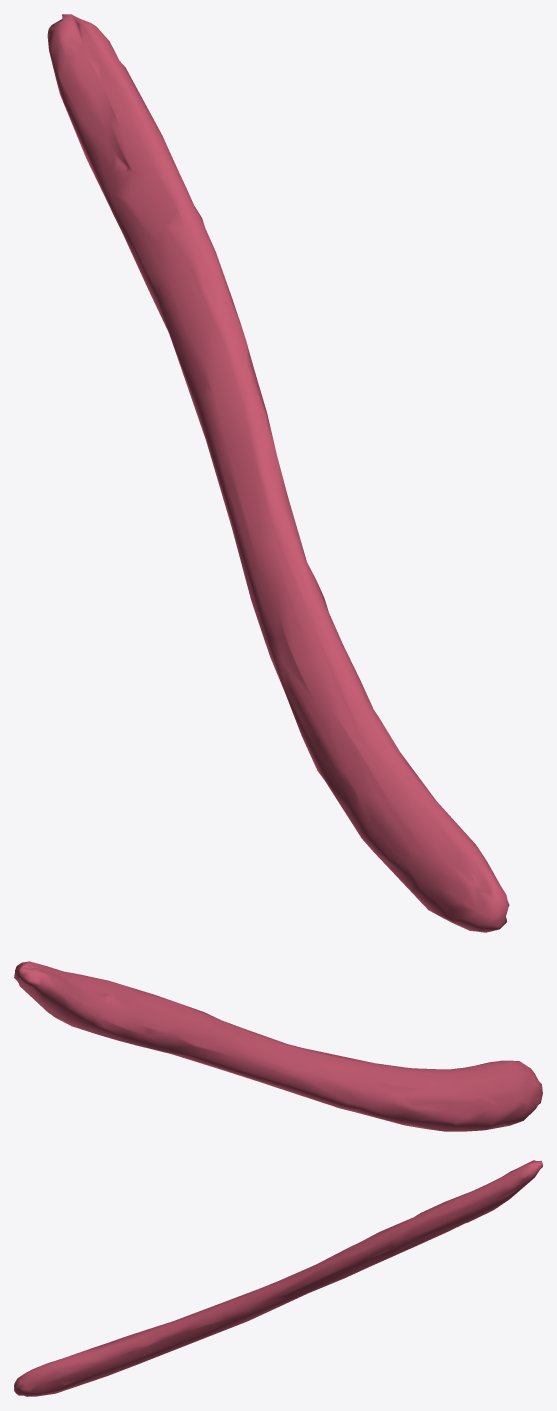
The picture shows the model from 3 angles, top to bottom: view 1: azimuth 30°, elevation 25°; view 2: azimuth 150°, elevation 25°; view 3: azimuth 270°, elevation 25°; orthographic projection. The views are drawn at different scales.
Parts seen in each view (by area): view 1: 右侧杓会厌肌; view 2: 右侧杓会厌肌; view 3: 右侧杓会厌肌.
Boxes of the visible parts, box(x1,y1,x2,y2) form: 右侧杓会厌肌: box(47, 14, 509, 932); 右侧杓会厌肌: box(14, 961, 542, 1131); 右侧杓会厌肌: box(14, 1160, 542, 1396).
Size of the model in its own units: 0.00625 by 0.0186 by 0.0345.
